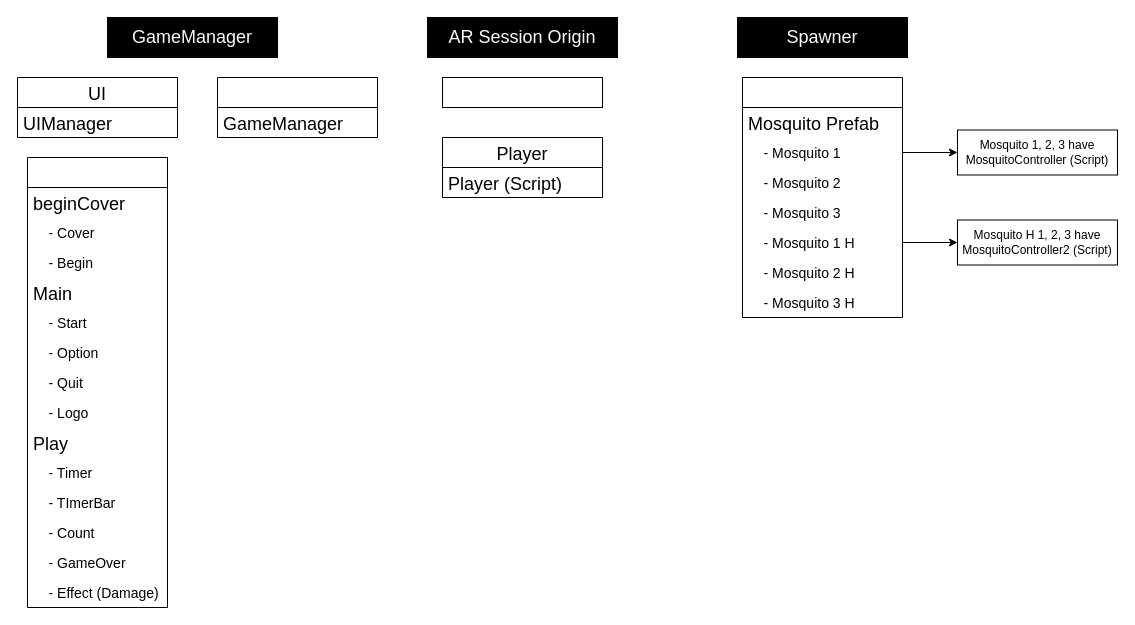
Image size: 1135x625. Some labels were removed from this diagram. Each missing label, with the box of its shape:
AR Camera: (442, 76, 602, 108)
GM: (216, 76, 378, 138)
Screen: (26, 156, 168, 608)
Spawner (Script): (742, 76, 902, 318)
